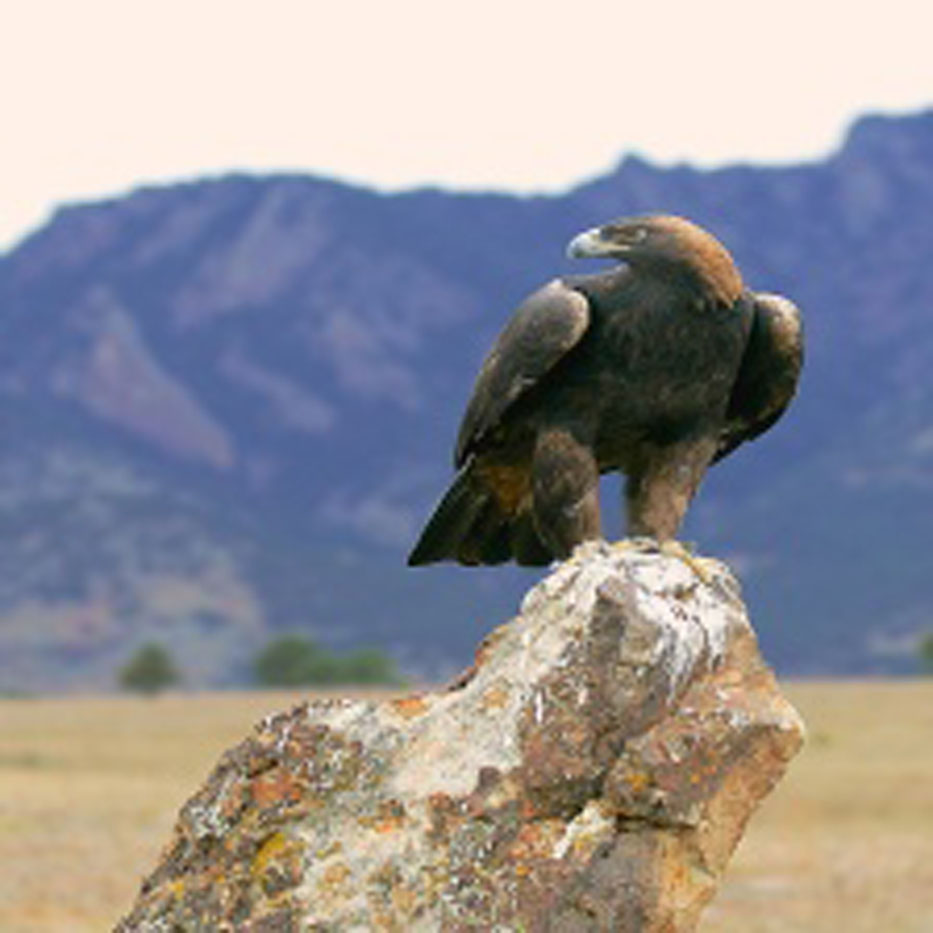Pengoyak Daging: (556, 229, 604, 266)
